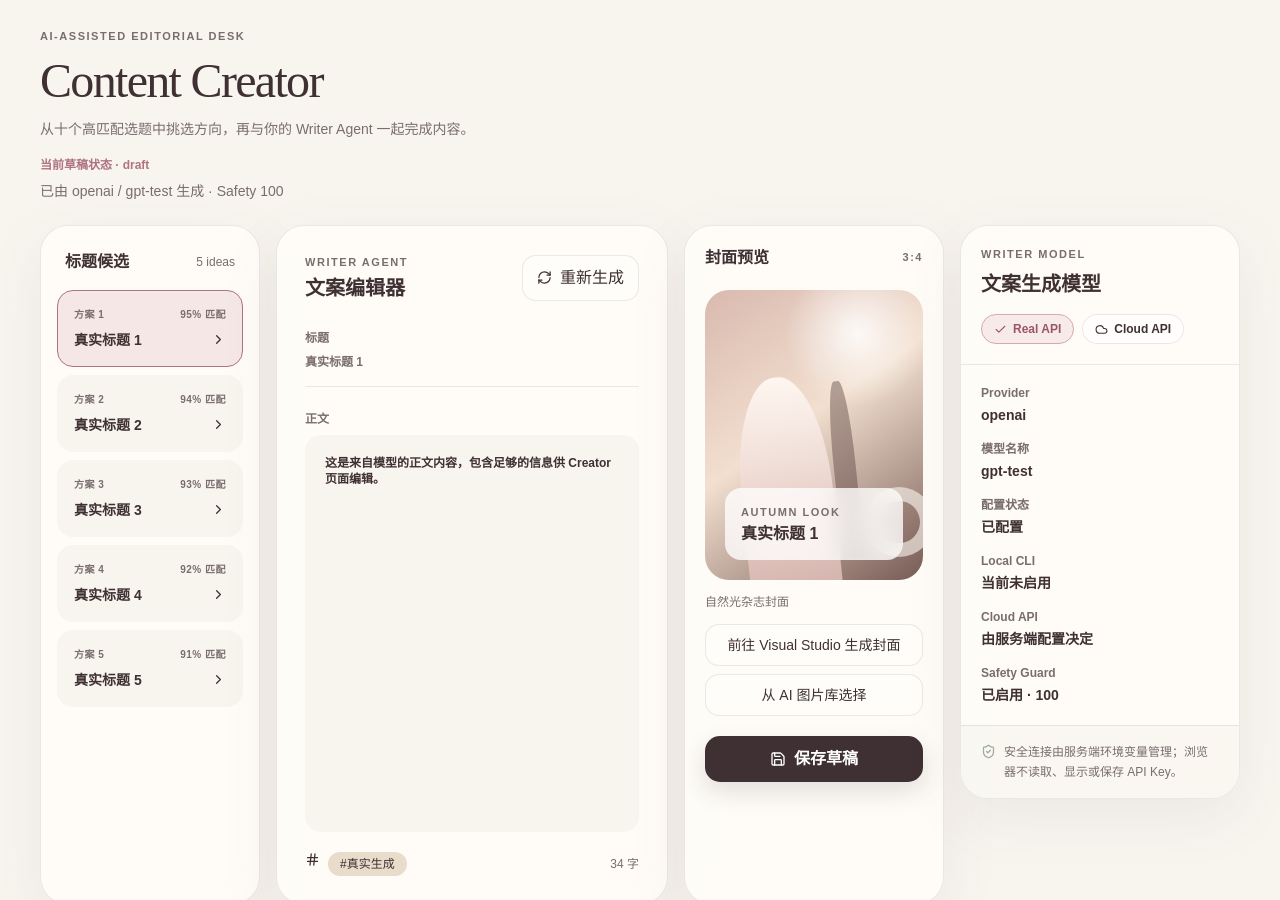
Creator API states › keeps the current brief and draft after a failed regeneration
The width and height of the screenshot is (1280, 900).
Step 1. Replace the text in the field labelled "标题" with "用户保留的标题" → (472, 370), box [305,354,639,387]
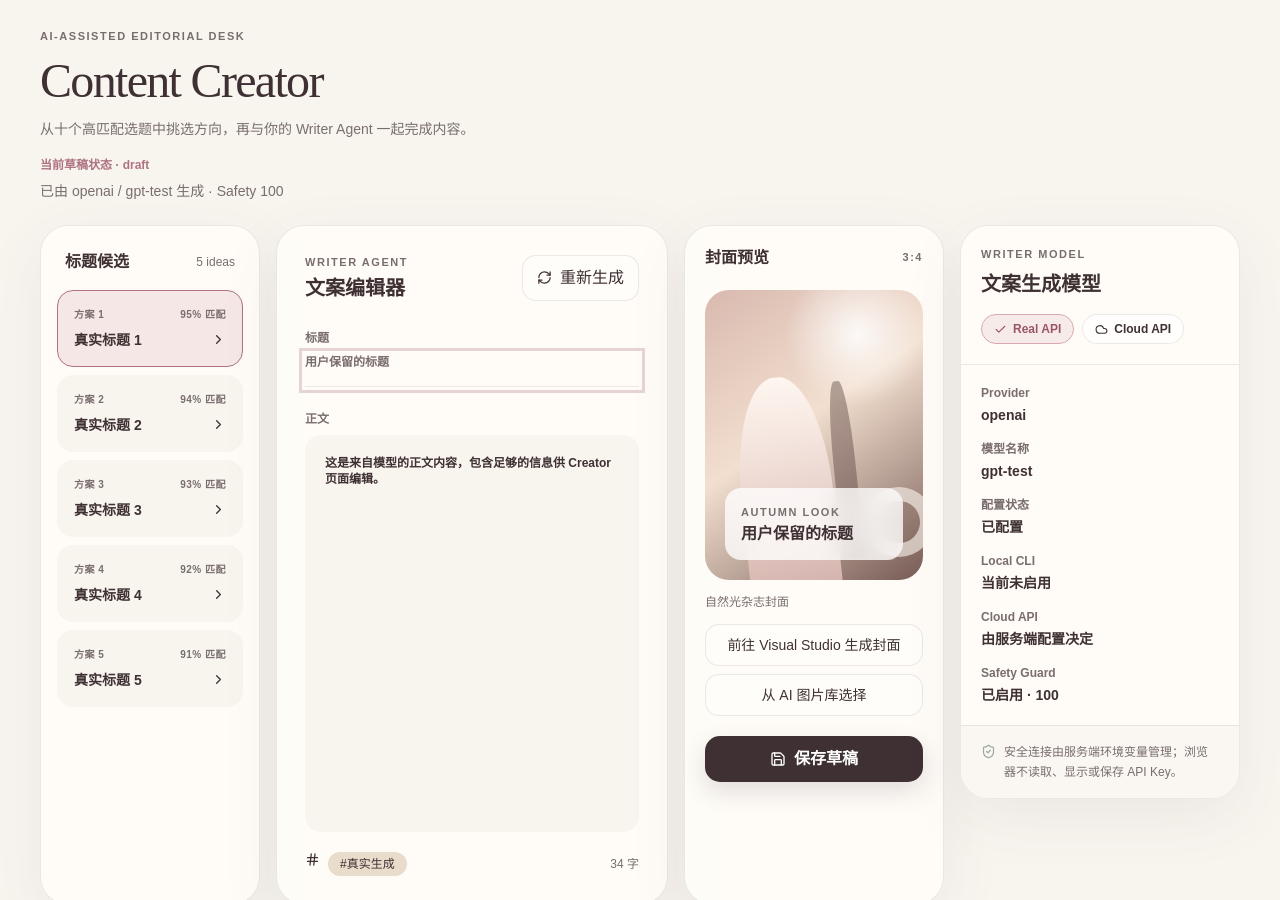
Step 2. Click the button "重新生成" → (580, 278), box [522,255,639,301]
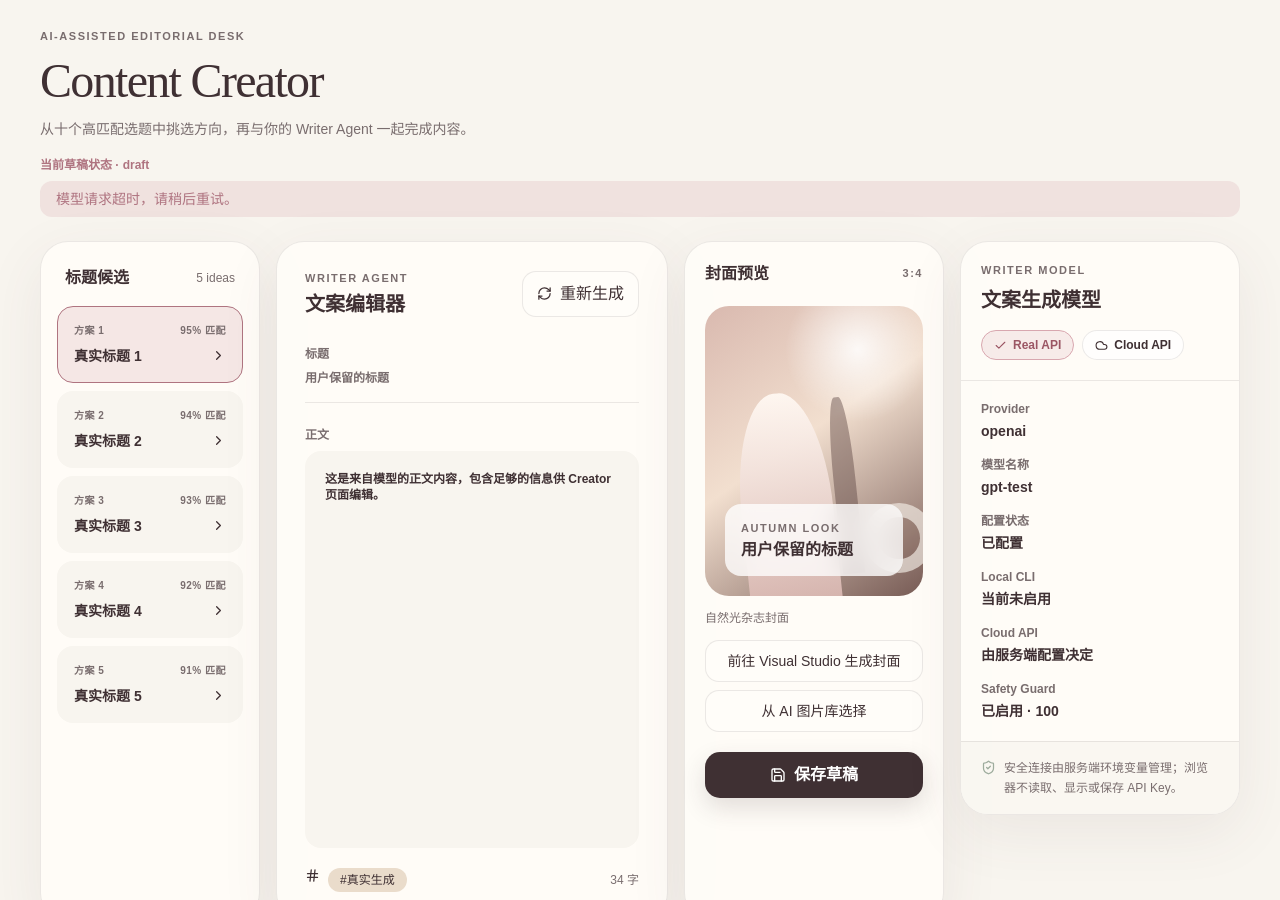
Expected: the message shows "模型请求超时", [56,190,238,206]
